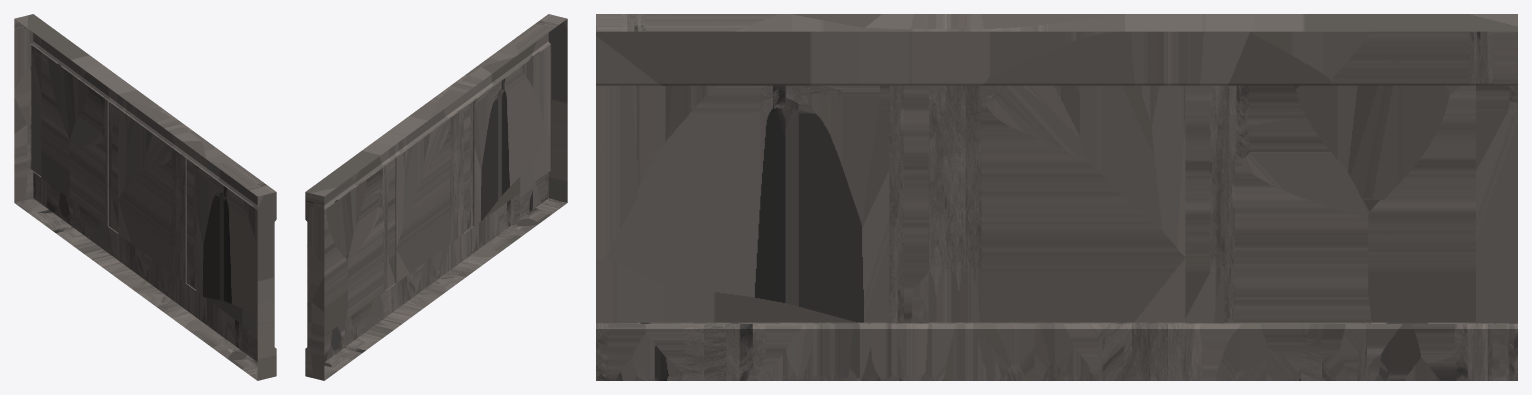
Rendered from wallPrefab1x3.fbx.
3 views of the same model, side by side, from view 1: azimuth 30°, elevation 25°; view 2: azimuth 150°, elevation 25°; view 3: azimuth 270°, elevation 25° (orthographic). The views are drawn at different scales.
Visible parts, largest first — view 1: wallPrefab1x3; view 2: wallPrefab1x3; view 3: wallPrefab1x3.
Boxes of the visible parts, <box> form: wallPrefab1x3: <box>14,14,276,380</box>; wallPrefab1x3: <box>305,14,567,380</box>; wallPrefab1x3: <box>596,14,1517,380</box>.
Size of the model in its own units: 23.83 by 220 by 525.
